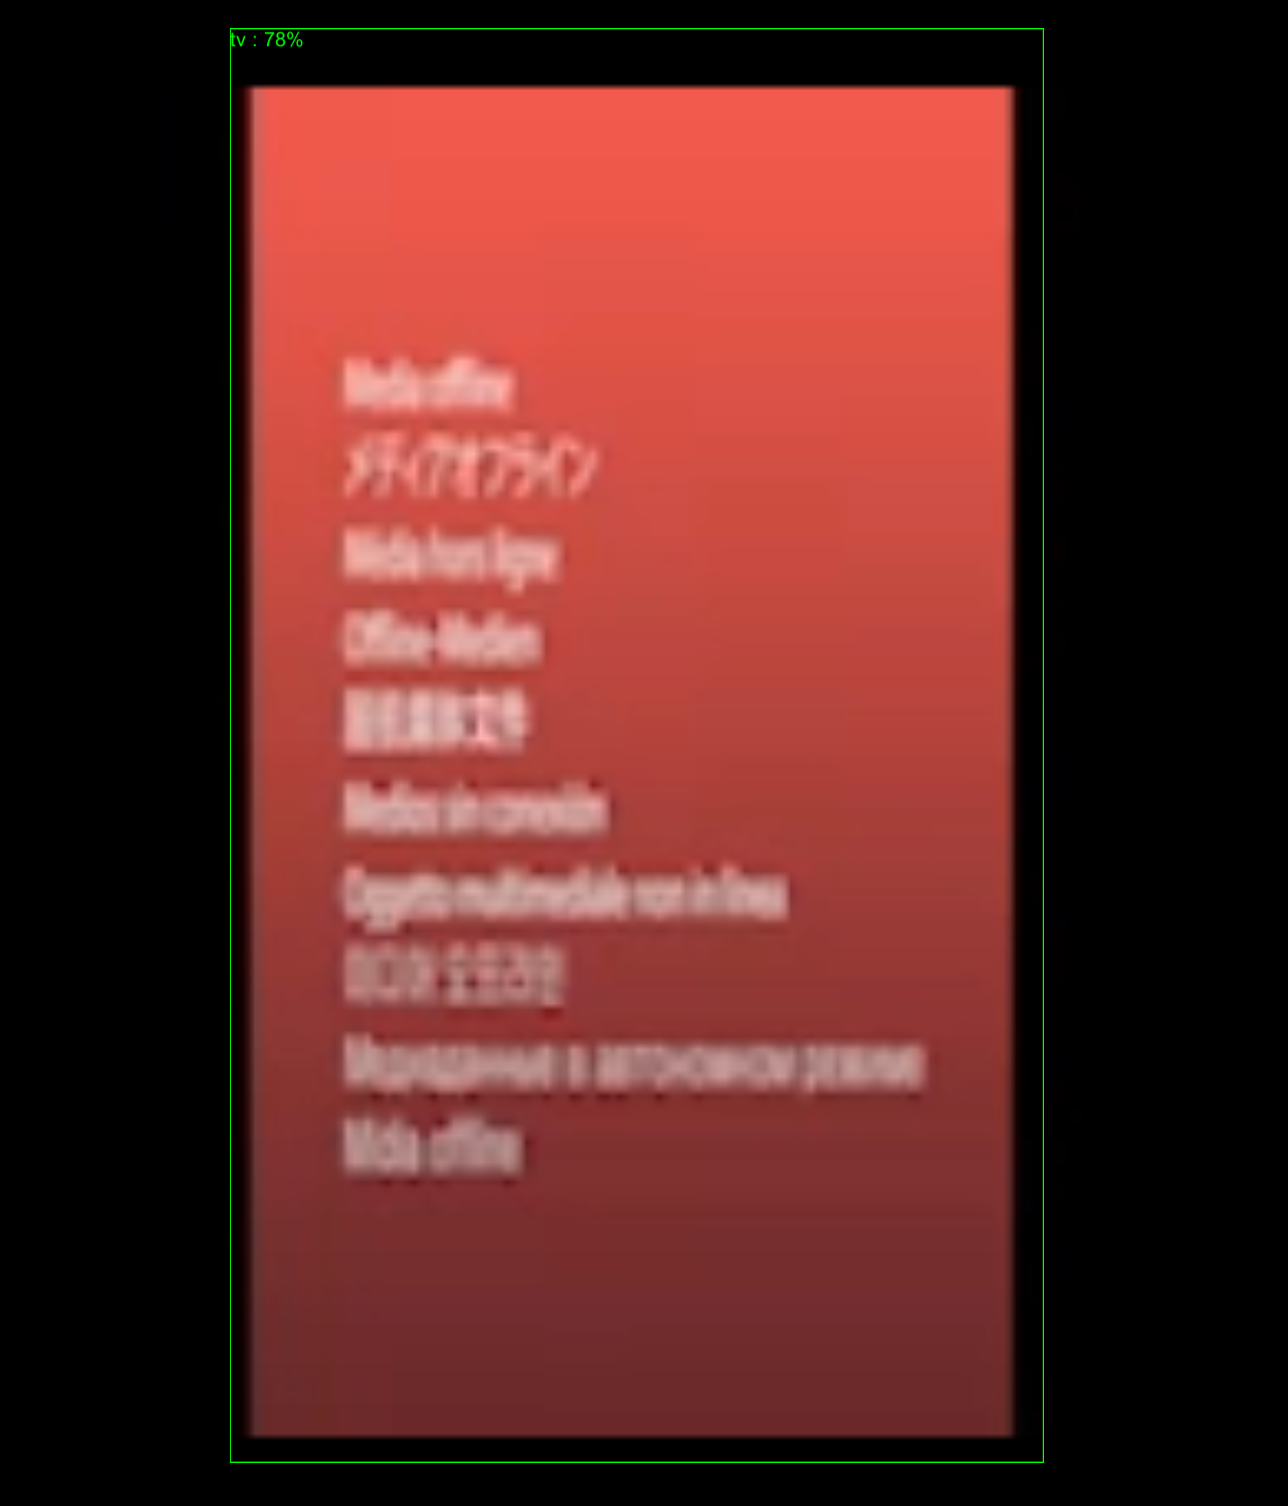rendering error: (229, 72, 1029, 1454)
